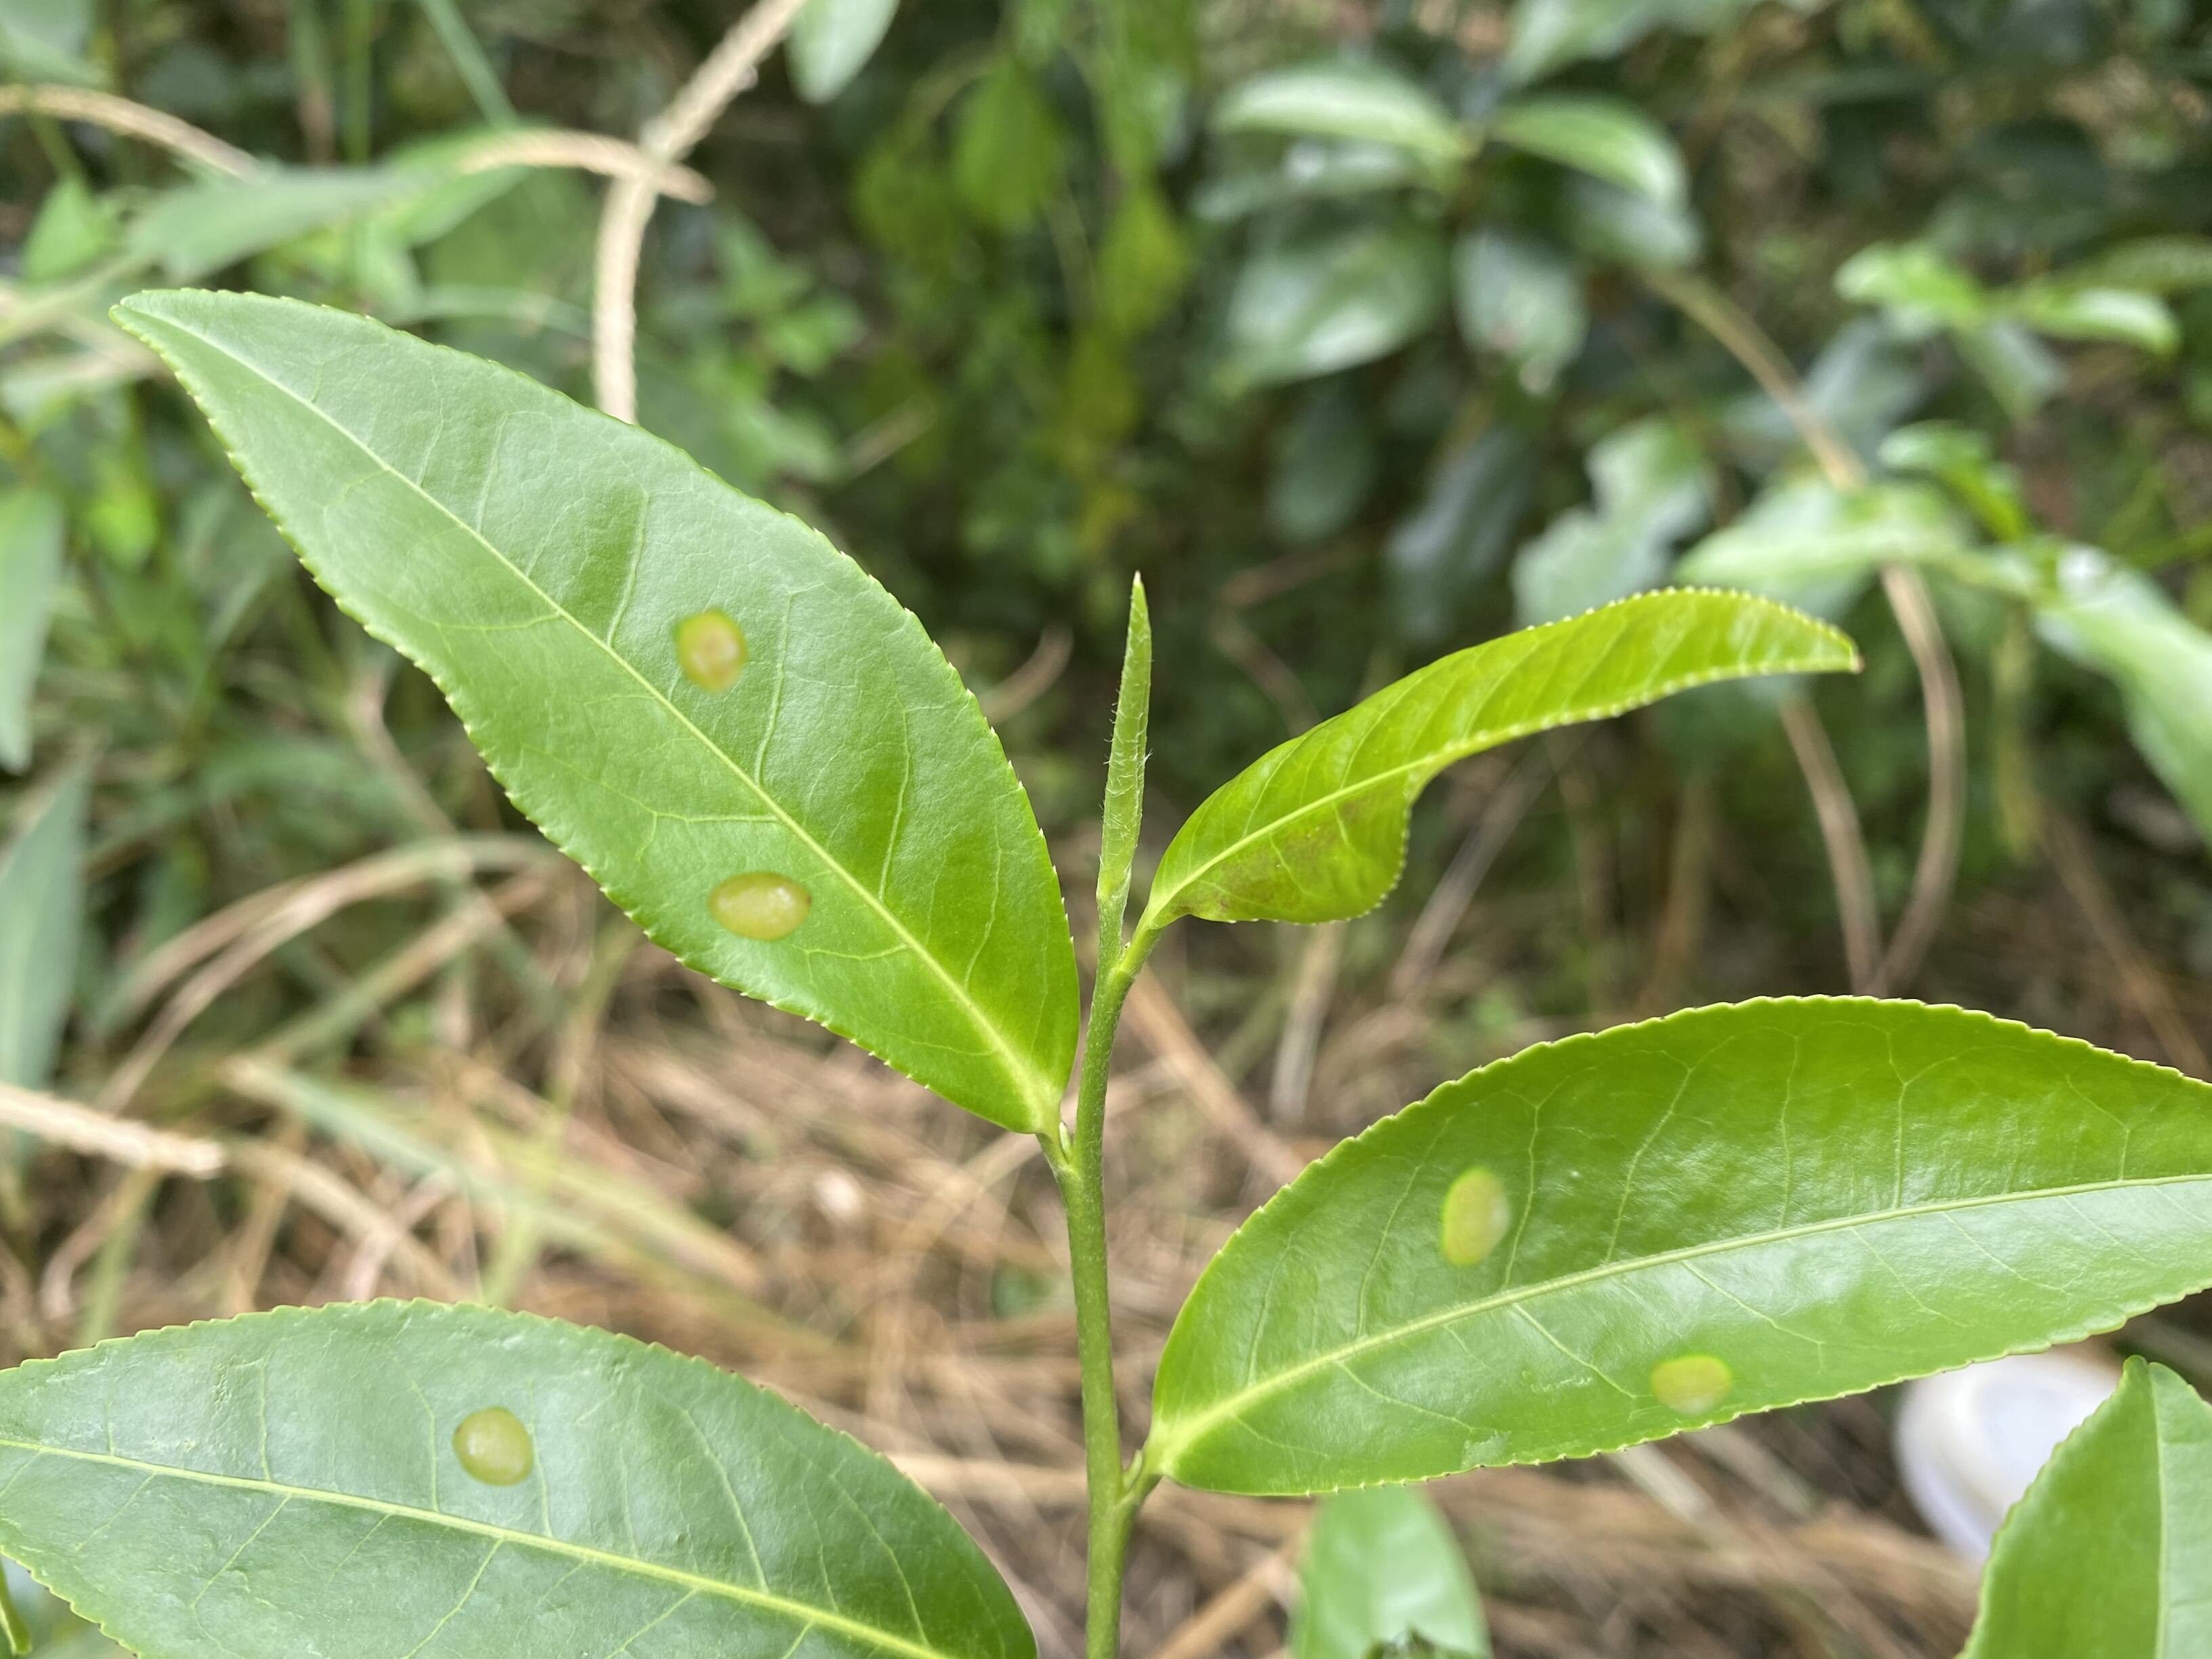chabing_high: (105, 286, 1082, 1140), (1144, 997, 2210, 1500)
chabing_low: (2, 1297, 1042, 1659)
healthy: (1958, 1356, 2210, 1656)
tanju_low: (1151, 586, 1865, 929)
